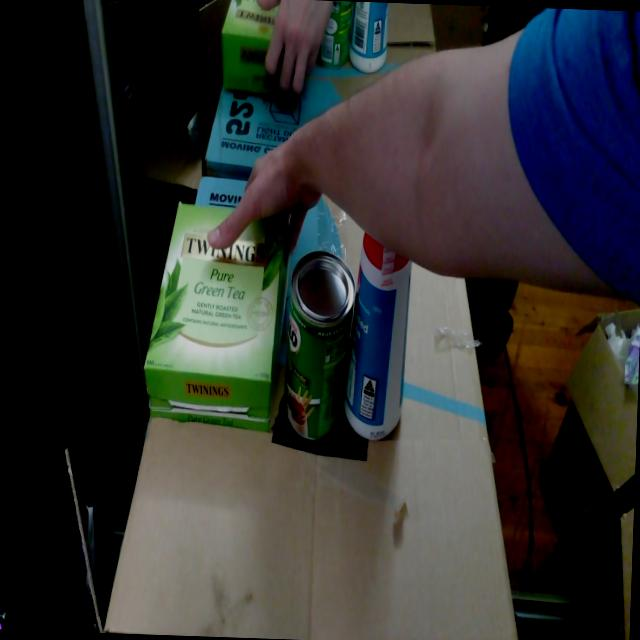nestle_milo_tin: (284, 250, 356, 440)
twinings_greentea_box: (143, 200, 291, 432)
woolworths_salt_bottle: (343, 232, 411, 440)
